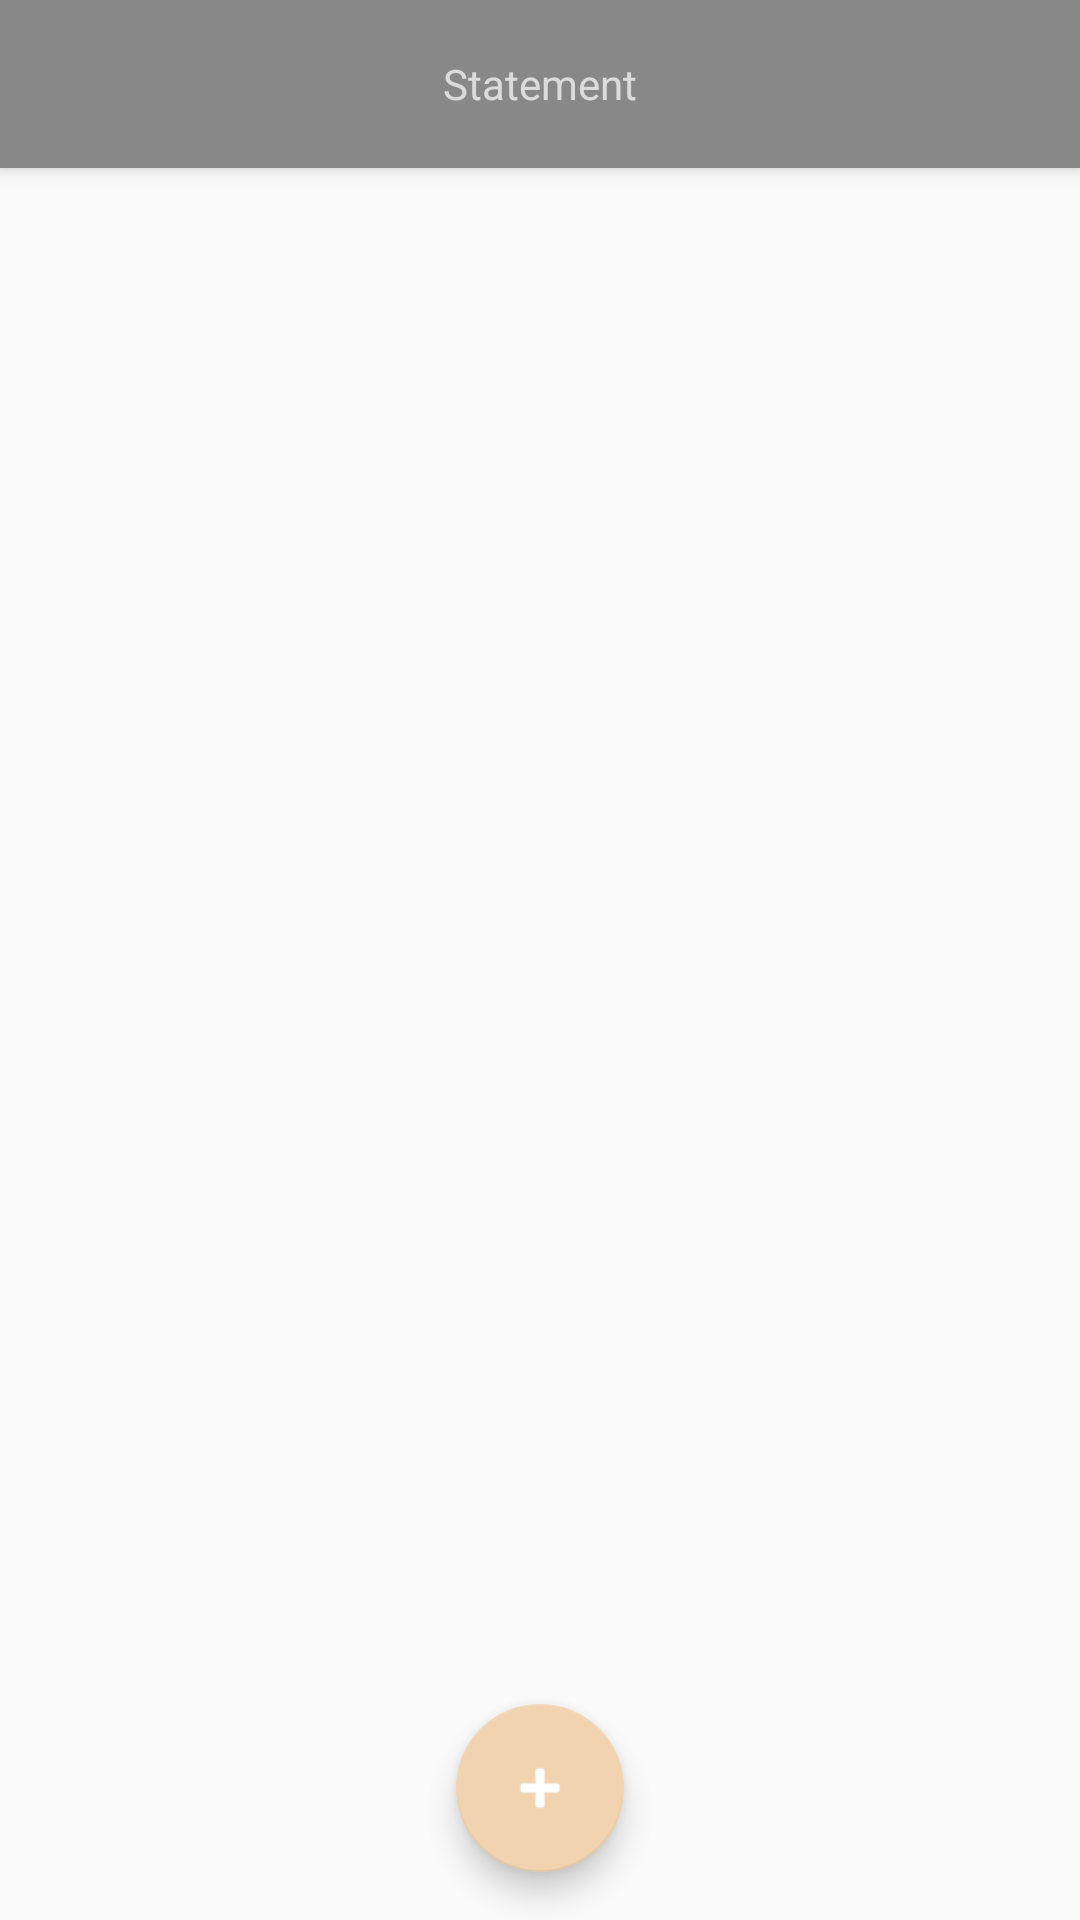

Icon bounding boxes for this 1080w x 1920h phone screenshot, format (x1, y1, x2, y2):
add: (456, 1704, 624, 1872)
